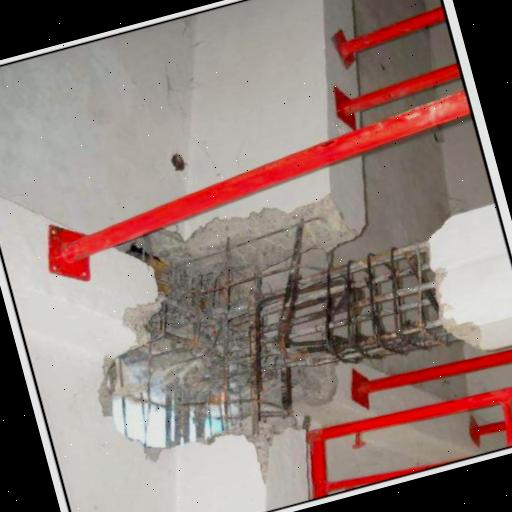spalling: (116, 220, 458, 440)
